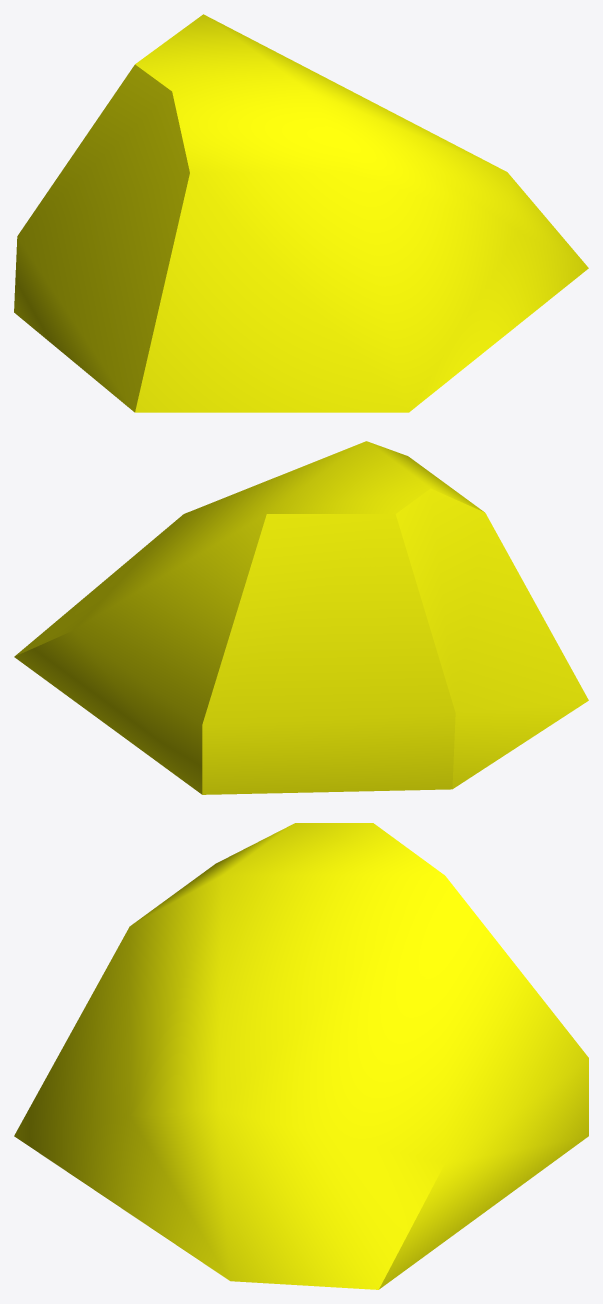
Rendered from kaykit-rock-a.glb.
The picture shows the model from 3 angles, top to bottom: view 1: azimuth 30°, elevation 25°; view 2: azimuth 150°, elevation 25°; view 3: azimuth 270°, elevation 25°; orthographic projection. The views are drawn at different scales.
Visible parts, largest first — view 1: rock_A; view 2: rock_A; view 3: rock_A.
Part boxes in pixels (x1,y1,x2,y2): rock_A: (14, 14, 588, 412); rock_A: (14, 441, 588, 794); rock_A: (14, 823, 588, 1289).
Size of the model in its own units: 0.533 by 0.25 by 0.5.
